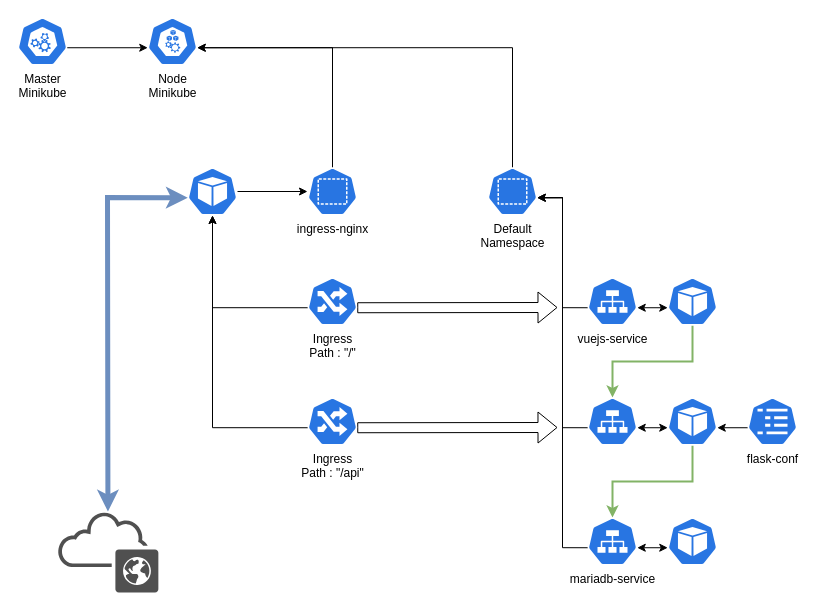
Some shapes in this 815 by 610 pixel diagram are drawn without their labels. The shapes that lost their labels are listed below. From the top down, each one's box as (x1, y1, x2, y2) in pixels, then its label:
(186, 166, 238, 216): Nginx Controller
(666, 276, 718, 326): vuejs
(586, 396, 638, 446): flask-service
(666, 396, 718, 446): flask
(666, 516, 718, 566): mariadb
